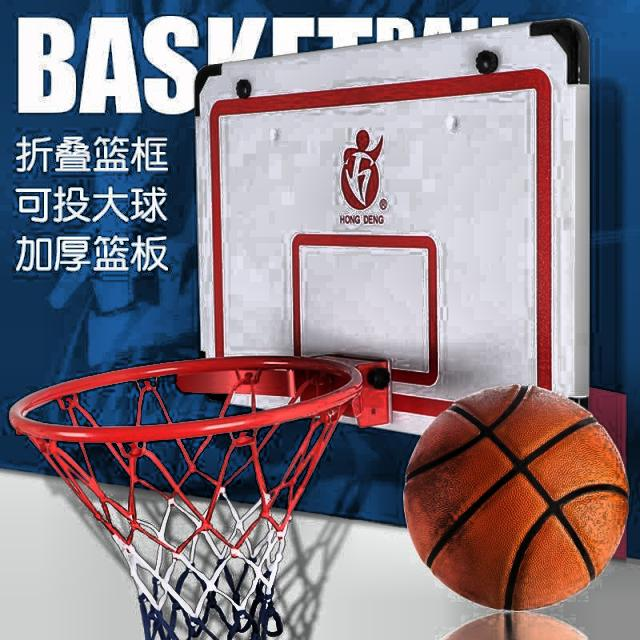board: (404, 383, 630, 612)
rim: (8, 356, 359, 640)
